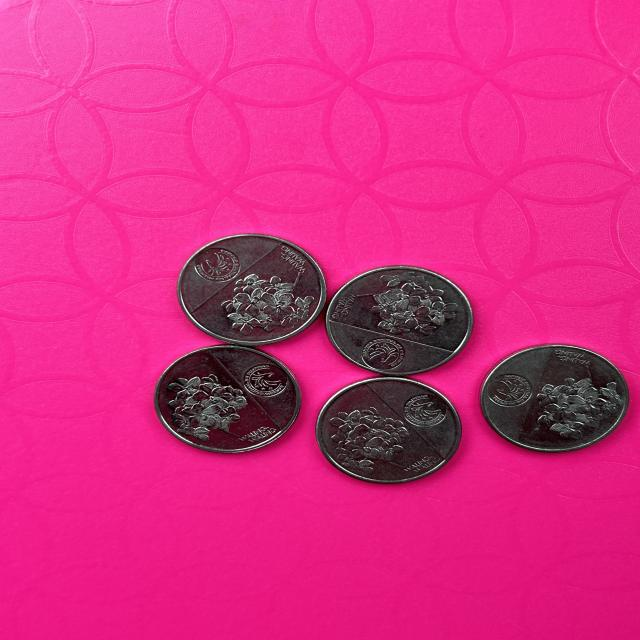1_New_Back: (352, 270, 460, 337), (529, 370, 623, 439), (212, 265, 304, 334), (164, 371, 257, 436), (327, 406, 410, 470)
